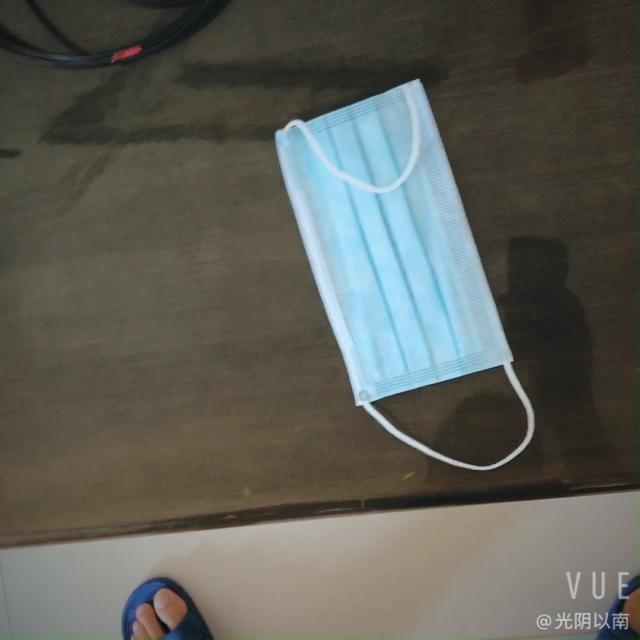non-organic waste: (282, 80, 520, 433)
